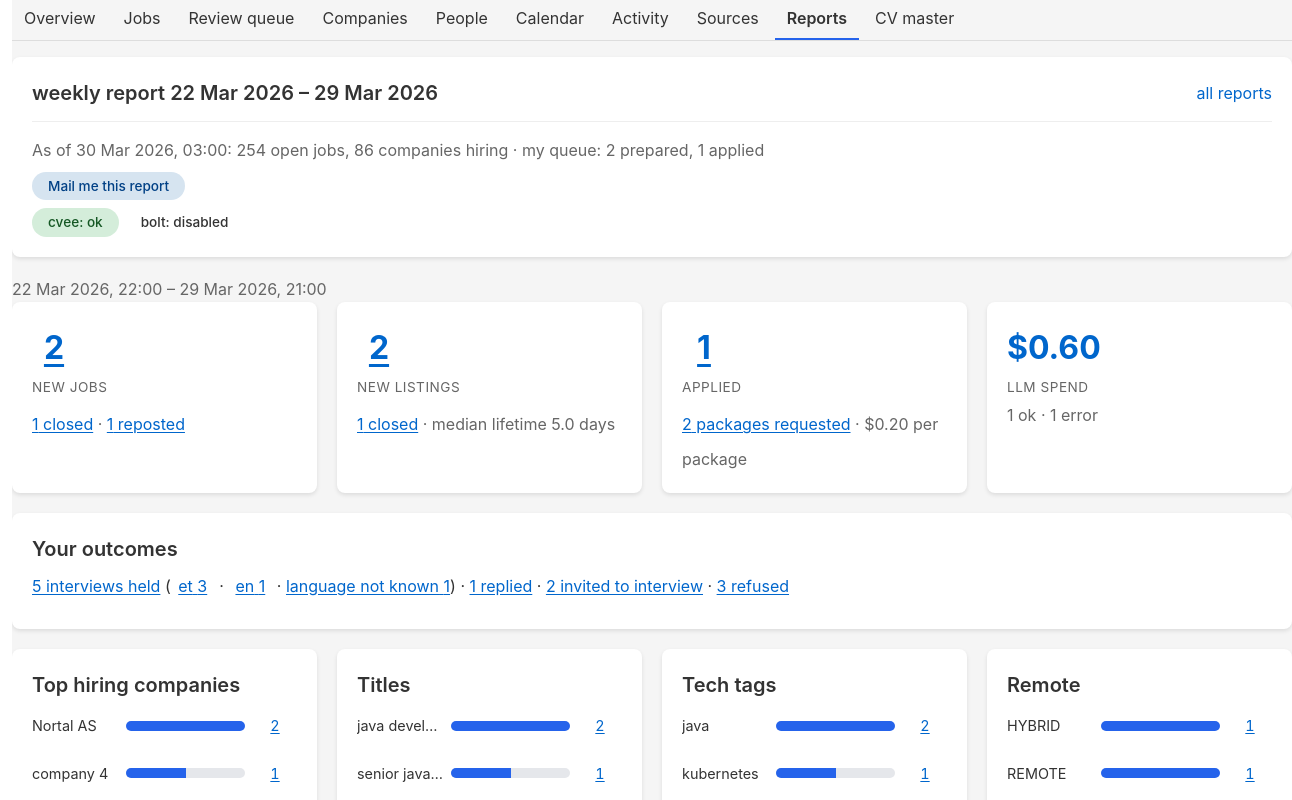
Scenario: MasiReportDetail › shows why a digest could not be mailed
The image size is (1292, 800).
What coordinates should you click on to do the following:
click the button "Mail me this report"
I would click on:
 (109, 186)
Its box is [32,172,185,200].
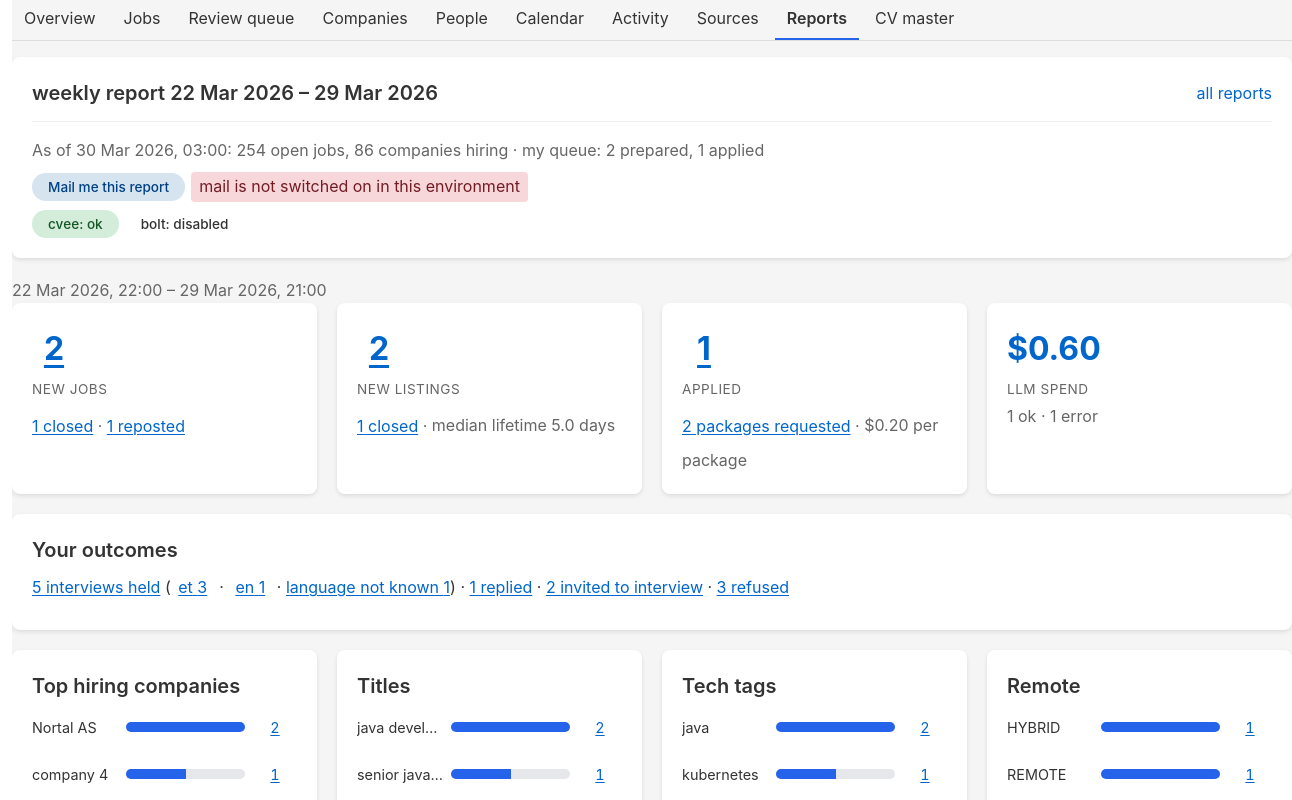
Expected: the text with test id "snapshot-line" is shown, [32,140,764,160]
Expected: the message reads "mail is not switched on in this environment", [199,176,520,196]
